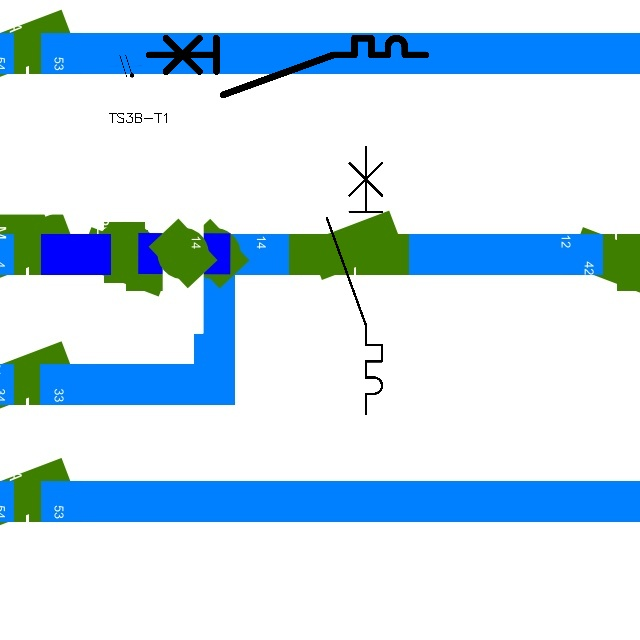interruptor_termomagnetico: (141, 31, 432, 102), (320, 140, 389, 421)
